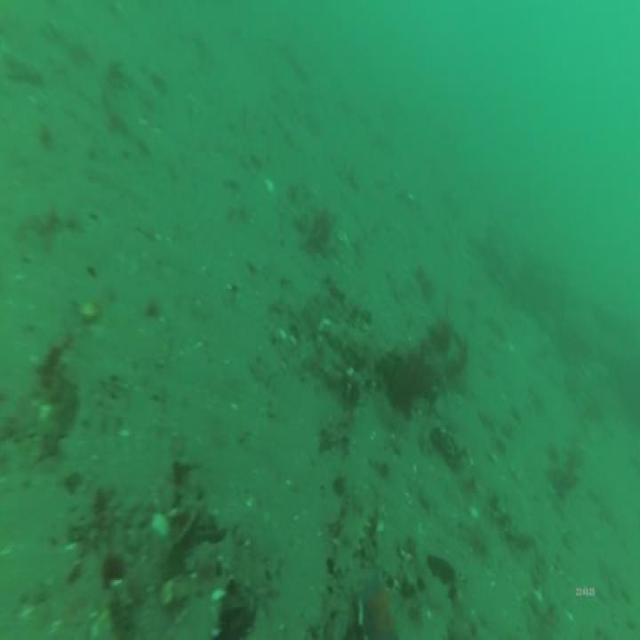echinus: (385, 346, 440, 419)
starfish: (350, 569, 400, 640)
